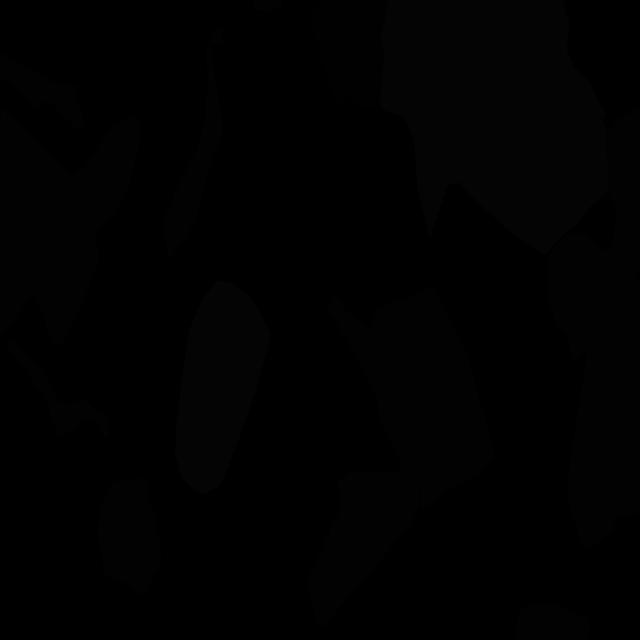cardboard: (548, 233, 640, 550), (326, 284, 466, 461), (0, 106, 142, 260), (0, 163, 99, 346), (308, 471, 419, 628), (400, 348, 495, 509), (162, 28, 224, 256), (6, 338, 109, 437), (97, 478, 162, 595), (0, 53, 85, 129), (602, 107, 640, 276), (516, 602, 589, 640), (252, 0, 282, 13)
rigid_plastic: (312, 0, 388, 109)
soft_plastic: (380, 0, 610, 255), (175, 280, 271, 494)
